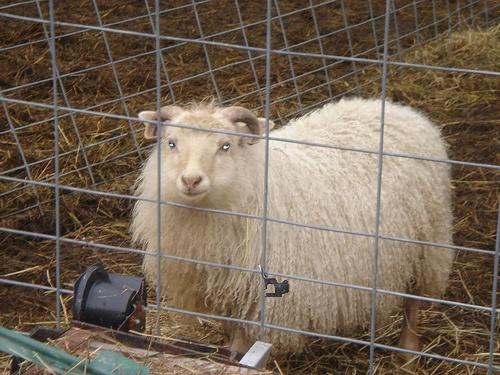tampered: (259, 264, 289, 297)
